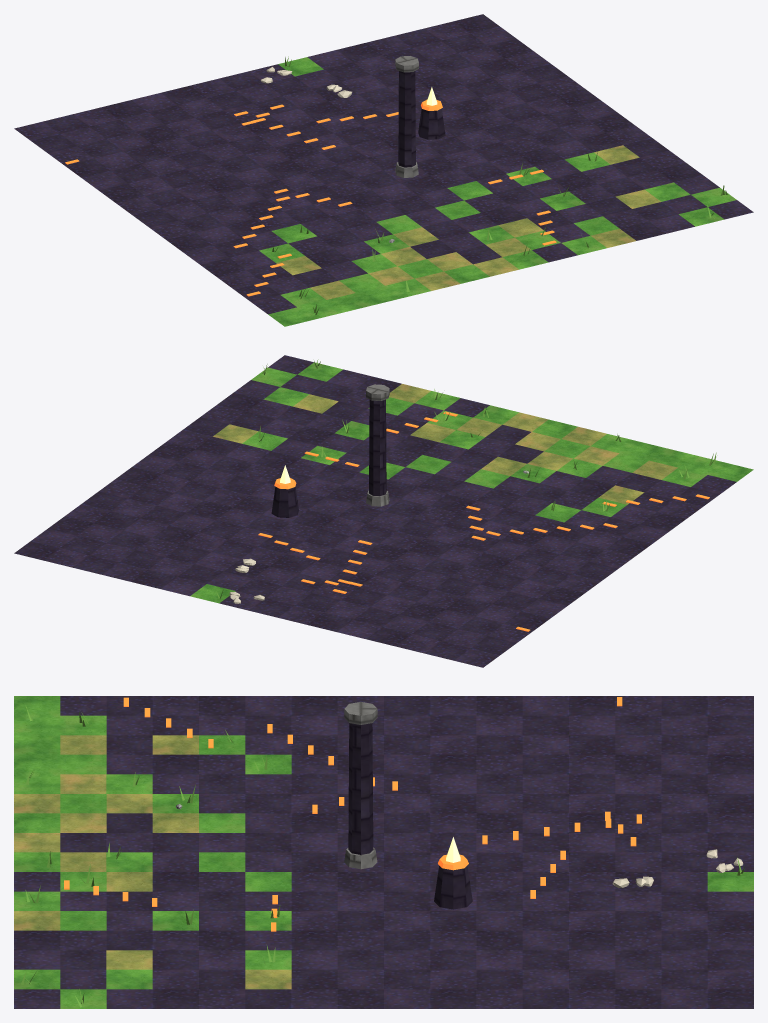
File: chunk_5_23.glb
The picture shows the model from 3 angles, top to bottom: view 1: azimuth 30°, elevation 25°; view 2: azimuth 150°, elevation 25°; view 3: azimuth 270°, elevation 25°; orthographic projection. The views are drawn at different scales.
Visible parts, largest first — view 1: chunk_5_23; view 2: chunk_5_23; view 3: chunk_5_23.
Boxes of the visible parts, x1,y1,x2,y2 form: chunk_5_23: (14,14,753,326); chunk_5_23: (14,355,753,667); chunk_5_23: (14,696,753,1008).
Bounding box in the file's own units: 16 × 3.81 × 16.
Materials: 11 (7 with a texture image).
